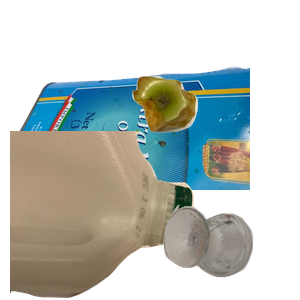glass: (161, 202, 300, 300)
metal: (10, 64, 250, 244)
plastic: (10, 131, 196, 300)
trash: (130, 74, 300, 199)
